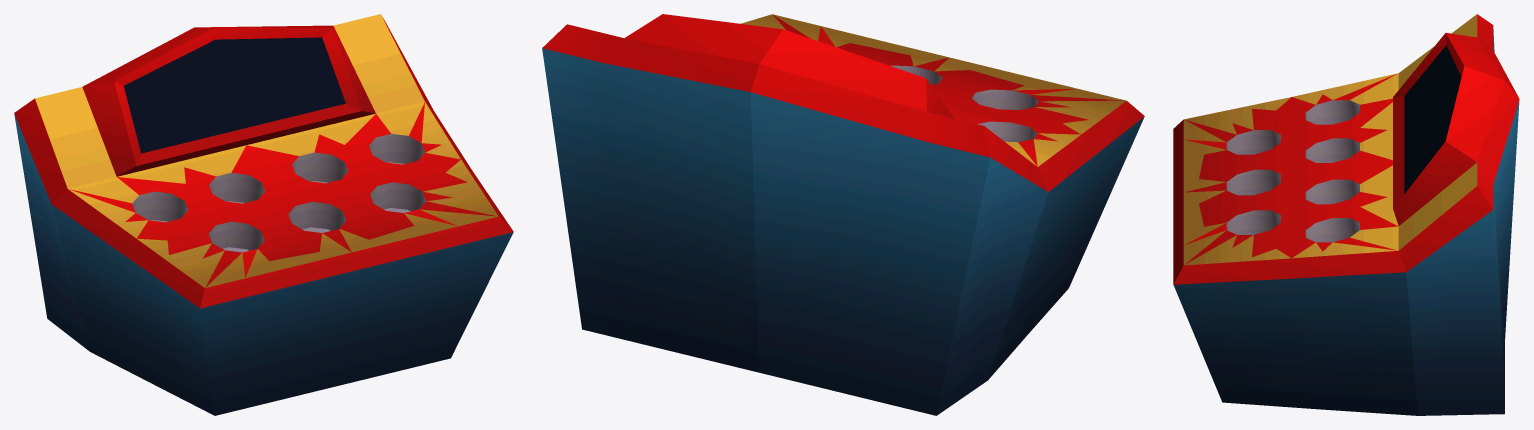
The model's file is SM_WAMTable (1).fbx.
3 views of the same model, side by side, from view 1: azimuth 30°, elevation 25°; view 2: azimuth 150°, elevation 25°; view 3: azimuth 270°, elevation 25° (orthographic). The views are drawn at different scales.
Parts seen in each view (by area): view 1: SM_WAMTable; view 2: SM_WAMTable; view 3: SM_WAMTable.
Part boxes in pixels (bbox=[...]): SM_WAMTable: bbox=[14, 14, 513, 415]; SM_WAMTable: bbox=[542, 14, 1144, 415]; SM_WAMTable: bbox=[1173, 14, 1519, 415].
Size of the model in its own units: 156 by 106 by 120.
